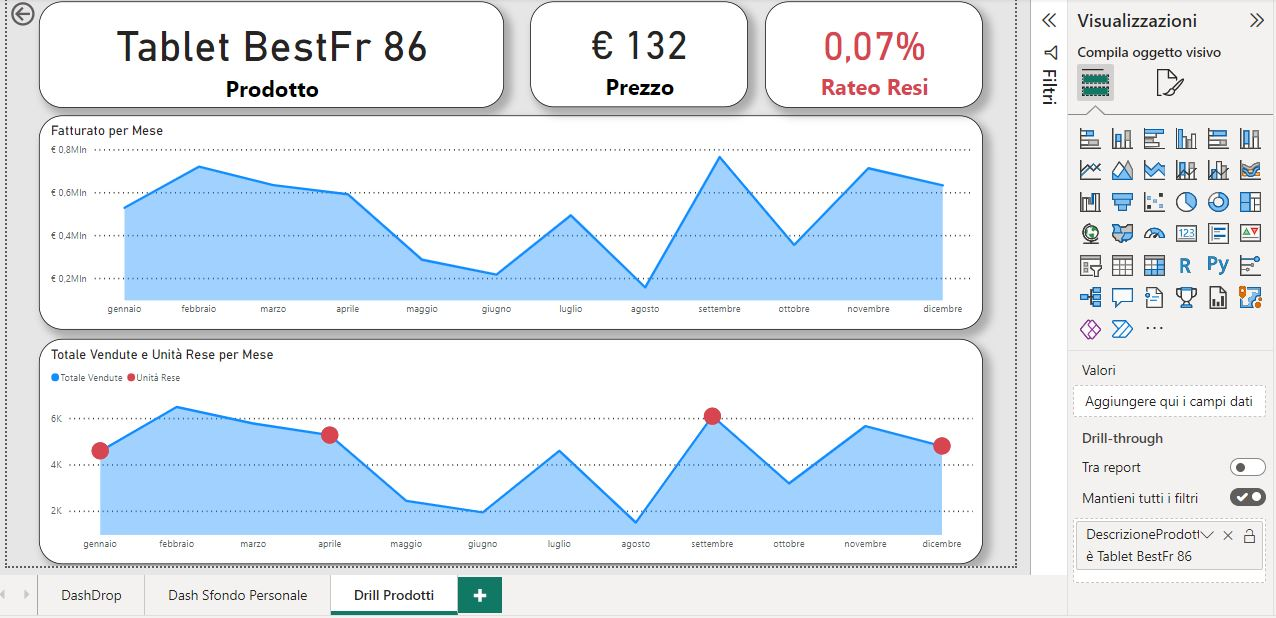

The page's visual inventory and layout, read from the dashboard file:
{"tool":"powerbi","page":{"name":"Drill Prodotti","canvas":[1280,720],"ordinal":2},"visuals":[{"type":"card","fields":{"Values":["Min(Prodotti_buy.DescrizioneProdotto)"]},"box":[40.2,4.8,590.4,135.1],"z":0},{"type":"stackedAreaChart","fields":{"Y":["Sum(Drop.Fatturato)"],"Category":["Data_buy.Nome del mese"]},"box":[40.2,149.6,1198.4,271.8],"z":1000},{"type":"actionButton","box":[0,0,100,40],"z":2000},{"type":"stackedAreaChart","fields":{"Category":["Data_buy.Nome del mese"],"Y":["Sum(Drop.Unità Vendute)","Sum(Drop resi.Unità Rese)"]},"box":[40.2,432.7,1198.4,286.3],"z":3000},{"type":"card","fields":{"Values":["Drop.DaxRateoResi"]},"box":[961.9,4.8,276.7,135.1],"z":4000},{"type":"card","fields":{"Values":["Max(Drop.PrezzoUnitario)"]},"box":[663.8,5,276.6,134.1],"z":5000}]}

Visuals, with their boxes on the page's 1280x720 design canvas (x1, y1, x2, y2). These are canvas units, not pixel positions in the 1276x618 screenshot, which may show the page scaled, cropped or inside an application window:
card - Min(Prodotti_buy.DescrizioneProdotto): BBox(40, 5, 631, 140)
stackedAreaChart - Sum(Drop.Fatturato) x Data_buy.Nome del mese: BBox(40, 150, 1239, 421)
actionButton: BBox(0, 0, 100, 40)
stackedAreaChart - Data_buy.Nome del mese x Sum(Drop.Unità Vendute): BBox(40, 433, 1239, 719)
card - Drop.DaxRateoResi: BBox(962, 5, 1239, 140)
card - Max(Drop.PrezzoUnitario): BBox(664, 5, 940, 139)
